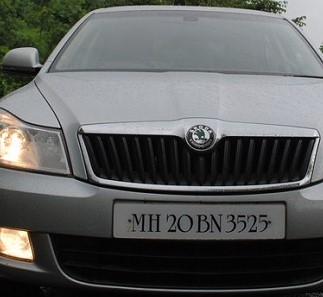MH20BN3525: (112, 199, 286, 239)
